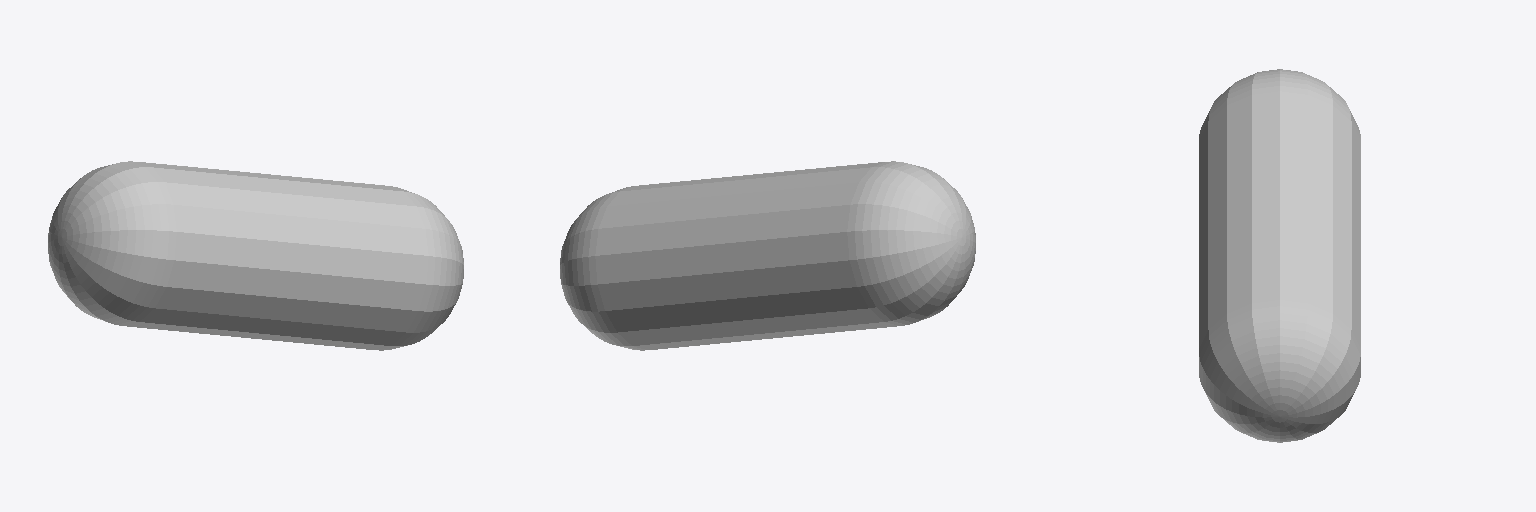
The model's file is P_arm_right.obj.
3 views of the same model, side by side, from view 1: azimuth 30°, elevation 25°; view 2: azimuth 150°, elevation 25°; view 3: azimuth 270°, elevation 25° (orthographic).
Parts seen in each view (by area): view 1: arm_right; view 2: arm_right; view 3: arm_right.
Part boxes in pixels (x1,y1,x2,y2): arm_right: (48,161,463,350); arm_right: (560,161,975,350); arm_right: (1199,69,1360,442).
Bounding box in the file's own units: 1.49 × 0.849 × 0.5318.